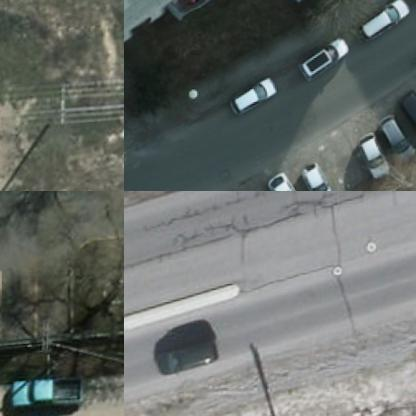car: (153, 336, 221, 376), (374, 114, 415, 167), (296, 40, 347, 82), (352, 4, 404, 40), (220, 80, 275, 113), (358, 134, 395, 182), (392, 91, 415, 150), (300, 162, 339, 190), (265, 172, 308, 190)
pickup: (14, 378, 86, 414)
